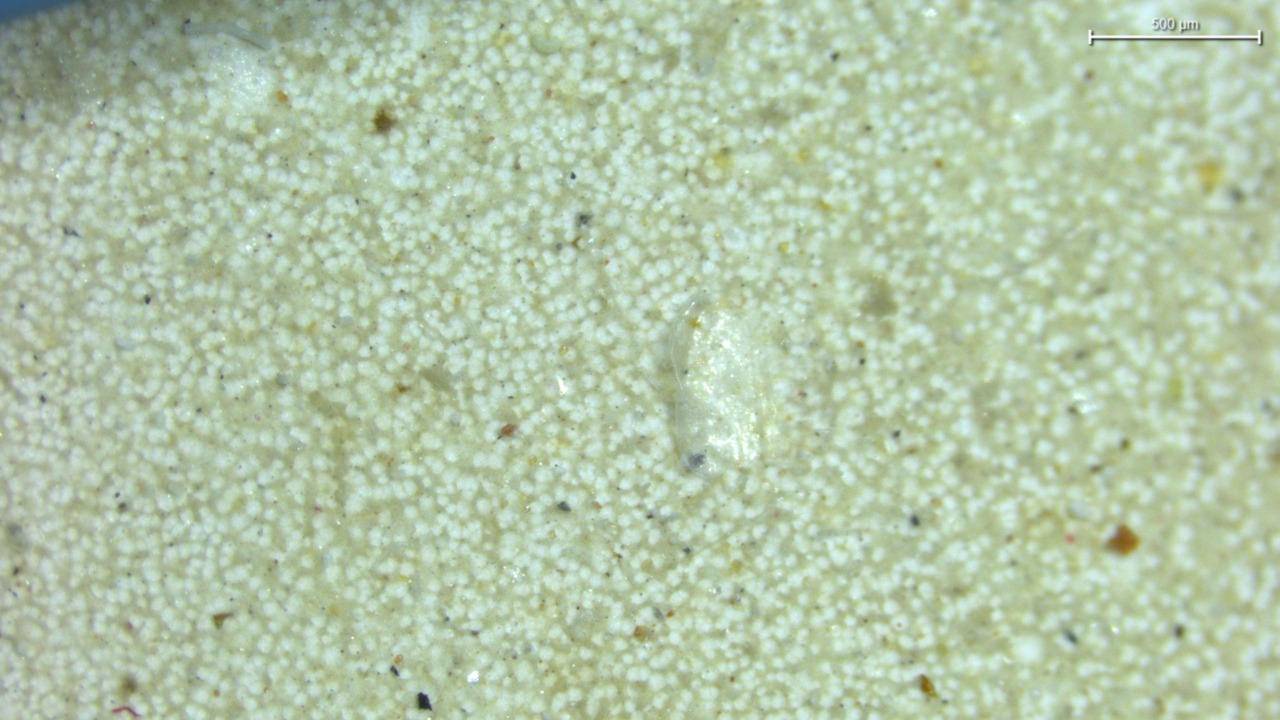microplastic_fragment: (656, 293, 776, 473)
